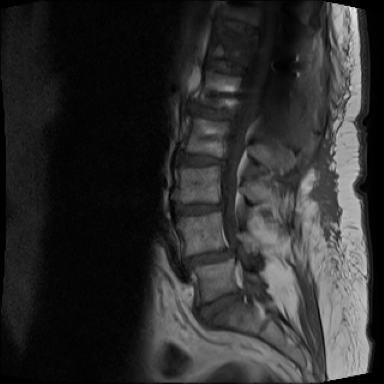Degenerative Disc Disease (DDD): (187, 103, 241, 129), (176, 154, 229, 174)
Lumbar Disc Bulge (LDB): (189, 288, 247, 332), (179, 247, 241, 280), (170, 196, 227, 225)
Normal IVD: (203, 59, 252, 83), (213, 21, 261, 39)
Spinal Stenosis (SS): (221, 245, 242, 268), (223, 110, 242, 130), (212, 196, 228, 219), (212, 155, 231, 173), (234, 286, 249, 305)
Spondylolisthesis: (175, 230, 246, 292)
